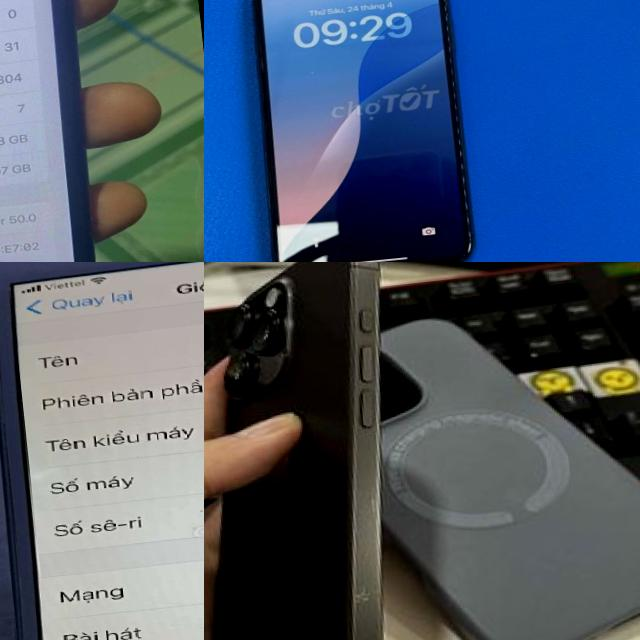gen_16: (212, 262, 381, 640)
gen_7_8: (0, 262, 204, 640), (0, 0, 125, 262)
gen_x_xs: (245, 0, 481, 262)
